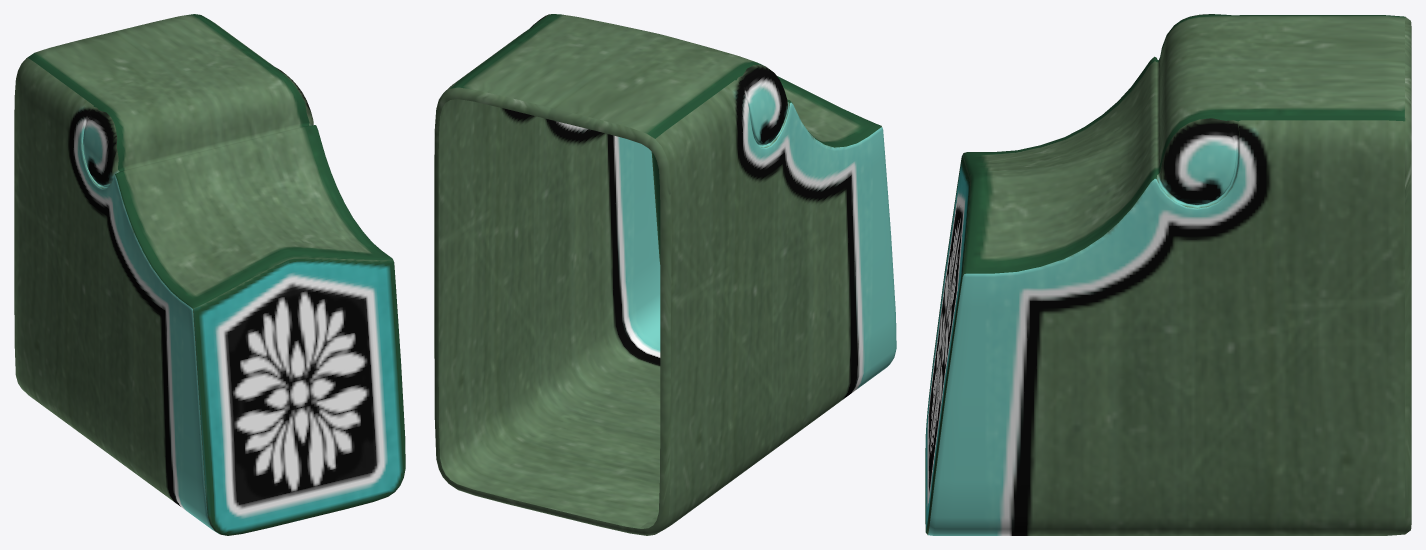
The model's file is SM_Beam03N.fbx.
3 views of the same model, side by side, from view 1: azimuth 30°, elevation 25°; view 2: azimuth 150°, elevation 25°; view 3: azimuth 270°, elevation 25° (orthographic). The views are drawn at different scales.
Parts seen in each view (by area): view 1: SM_Beam03N; view 2: SM_Beam03N; view 3: SM_Beam03N.
Part boxes in pixels (bbox=[...]): SM_Beam03N: bbox=[14, 14, 405, 535]; SM_Beam03N: bbox=[434, 14, 896, 535]; SM_Beam03N: bbox=[925, 14, 1411, 535].
Bounding box in the file's own units: 19.3 × 32.59 × 31.65.
